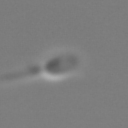normal: (1, 57, 42, 94)
